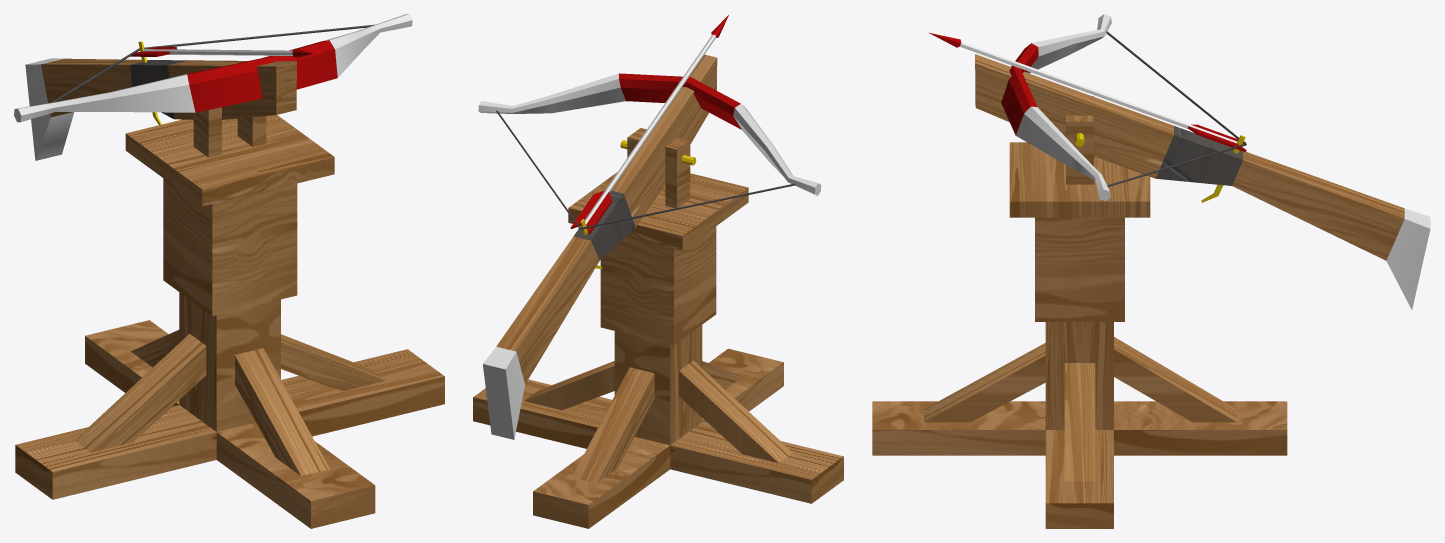
Rendered from may ban ten lv1.fbx.
3 views of the same model, side by side, from view 1: azimuth 30°, elevation 25°; view 2: azimuth 150°, elevation 25°; view 3: azimuth 270°, elevation 25° (orthographic). The views are drawn at different scales.
Parts seen in each view (by area): view 1: may_ban_ten_lv1; view 2: may_ban_ten_lv1; view 3: may_ban_ten_lv1.
Part boxes in pixels (x1=…): may_ban_ten_lv1: x1=14, y1=14, x2=444, y2=528; may_ban_ten_lv1: x1=473, y1=15, x2=843, y2=528; may_ban_ten_lv1: x1=872, y1=14, x2=1430, y2=528.
Size of the model in its own units: 5.03 by 5.42 by 6.71.
4 materials, 1 textured.
